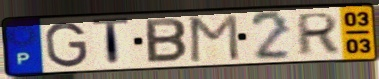2: (248, 9, 297, 64)
B: (144, 17, 189, 65)
G: (43, 21, 90, 69)
M: (187, 12, 242, 64)
R: (295, 11, 341, 58)
T: (90, 16, 131, 69)
